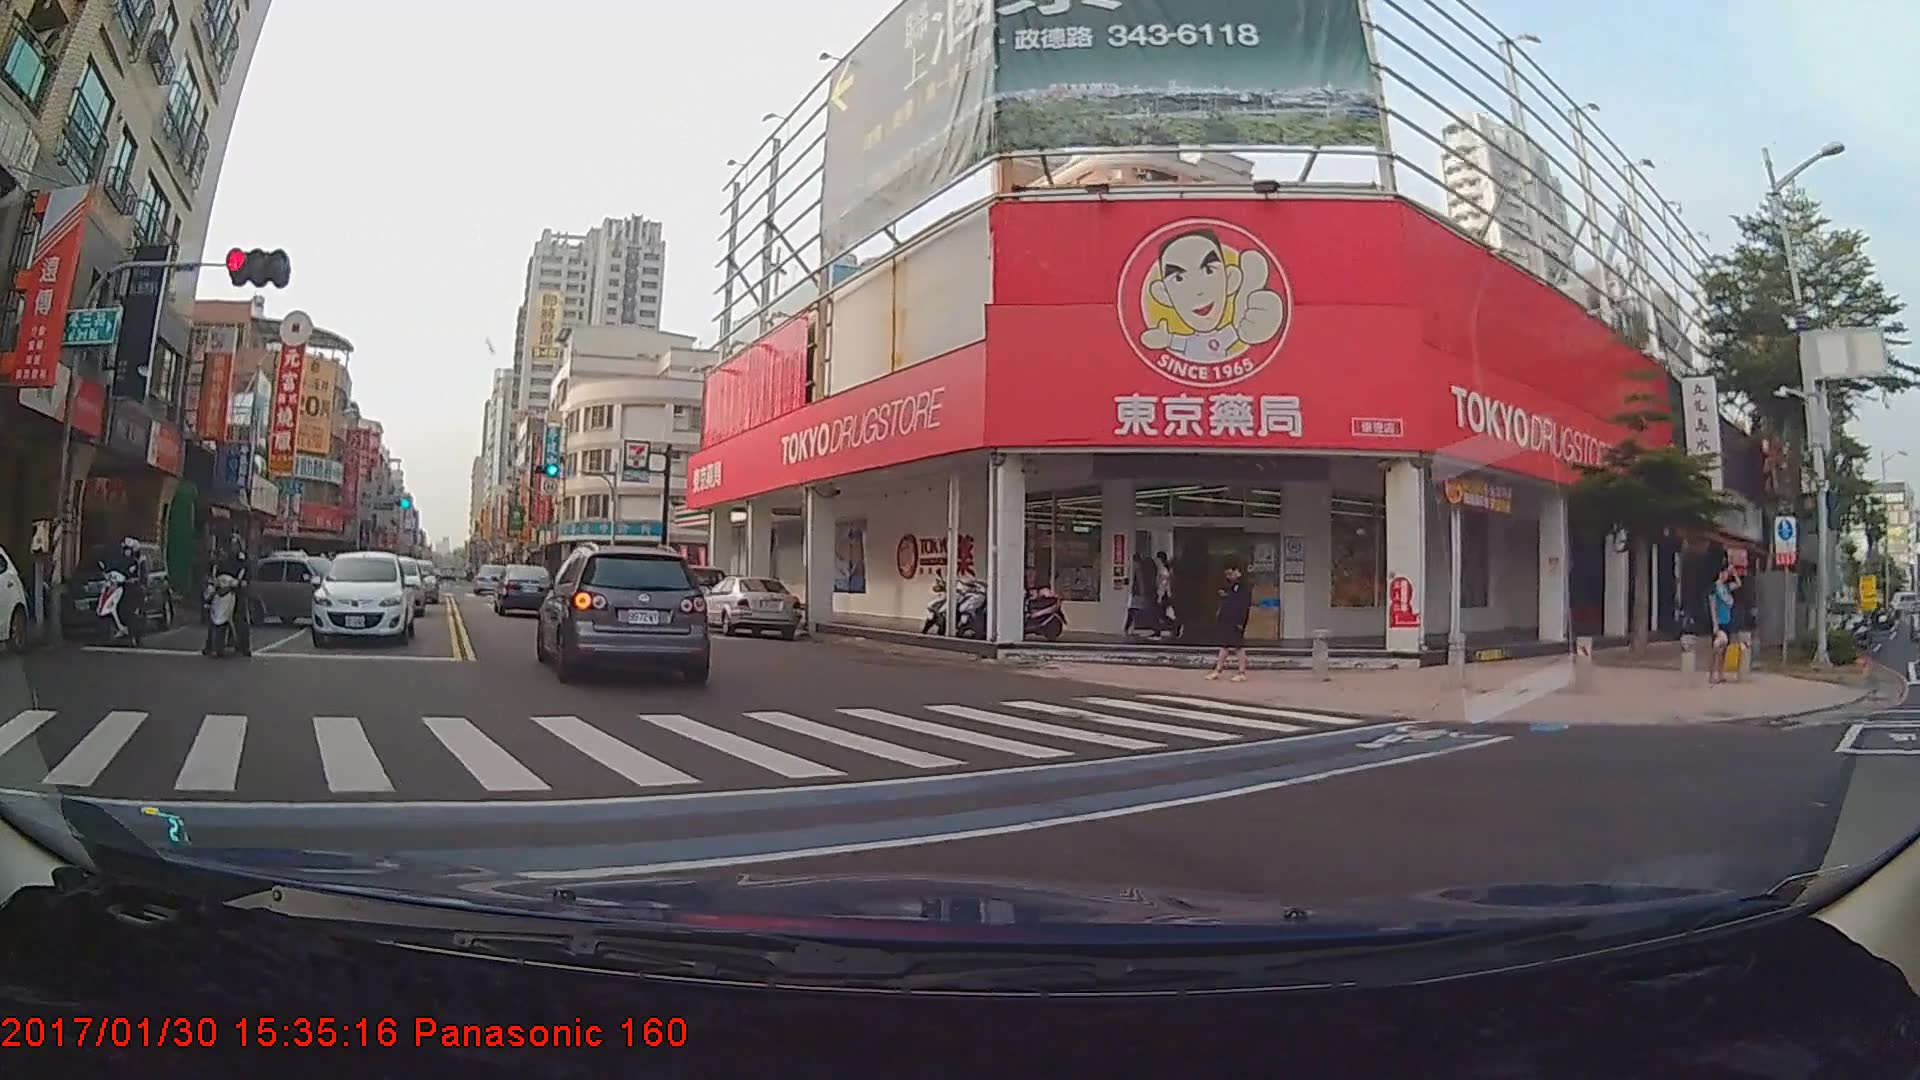pedestrian: (1204, 561, 1259, 681), (1705, 560, 1746, 684), (1123, 553, 1163, 637), (1154, 548, 1182, 642)
rider: (83, 550, 160, 662), (199, 537, 260, 663)
vehicle: (535, 541, 712, 683), (47, 545, 174, 649), (310, 561, 414, 657), (244, 560, 359, 630), (695, 575, 802, 639), (494, 566, 549, 618), (389, 562, 437, 611)
